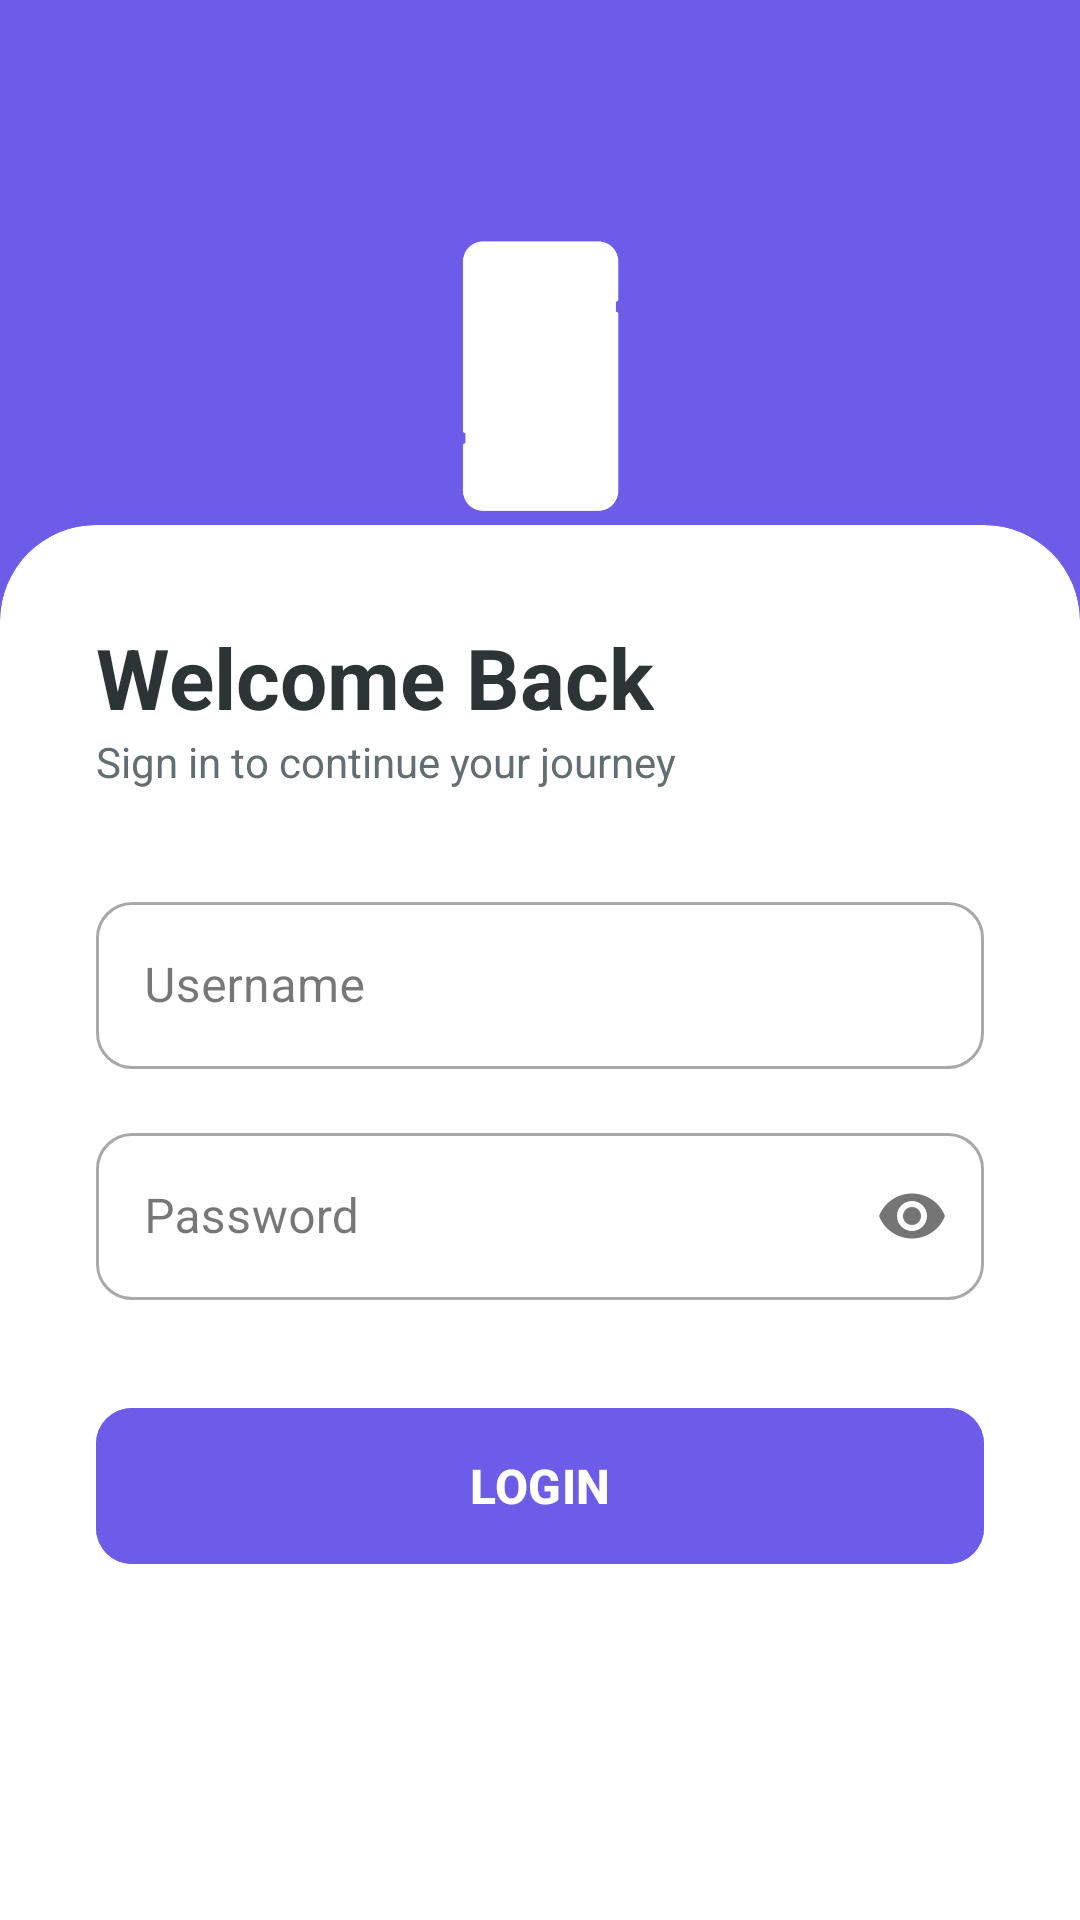

Named icons in this screenshot (1080w x 1920h) and their bounding boxes, (x1=x1, y1=y1, x2=x2, y2=y2):
handphone: (x1=463, y1=241, x2=619, y2=511)
